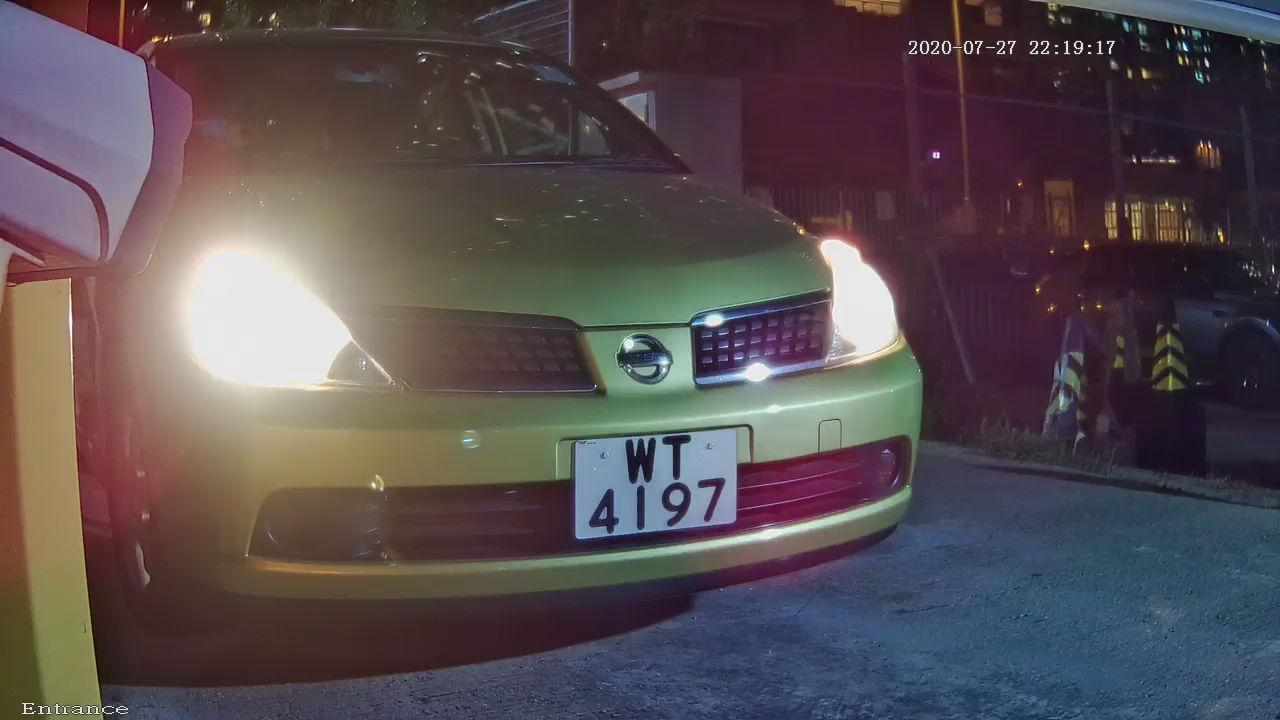privatecar: (58, 7, 1001, 685)
